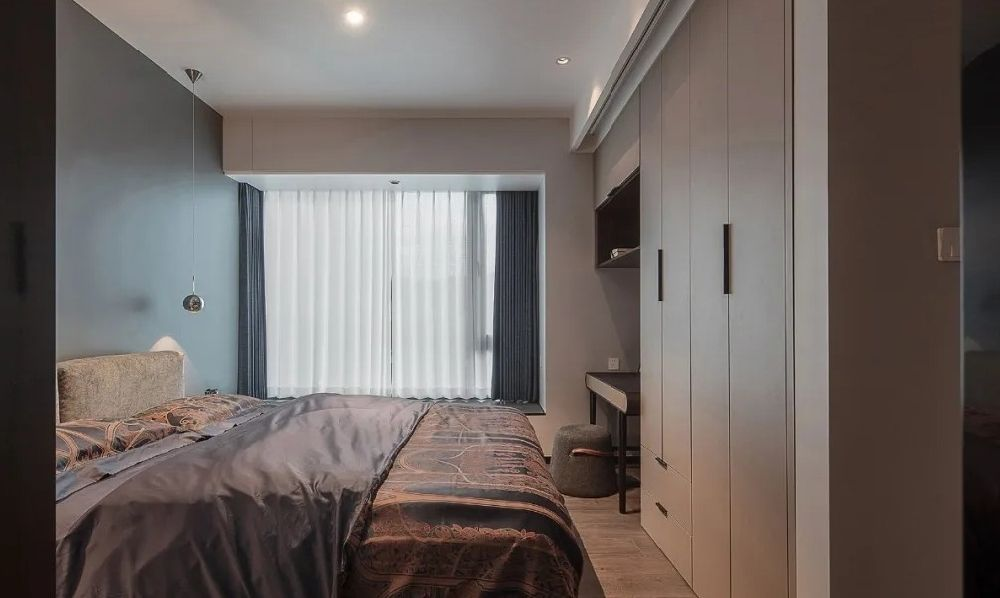床: (19, 391, 598, 595)
灯: (177, 63, 207, 316), (337, 5, 368, 37), (550, 54, 572, 69)
